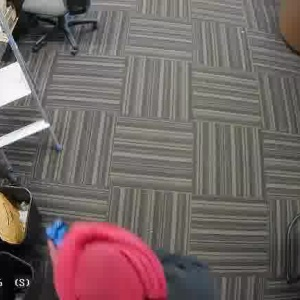person: (26, 211, 213, 300)
